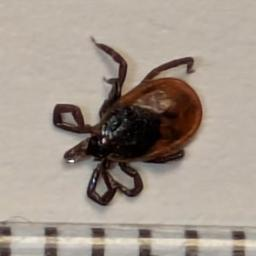Ixodes scapularis: (52, 39, 202, 206)
